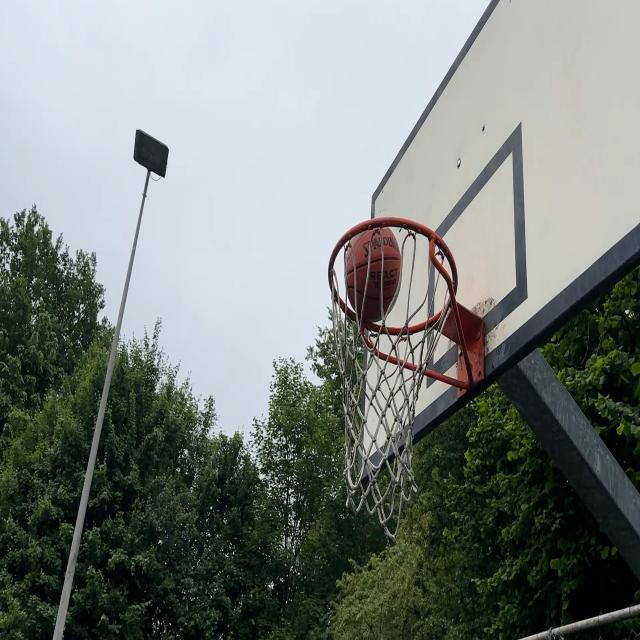rebound_hit: (345, 216, 401, 334)
